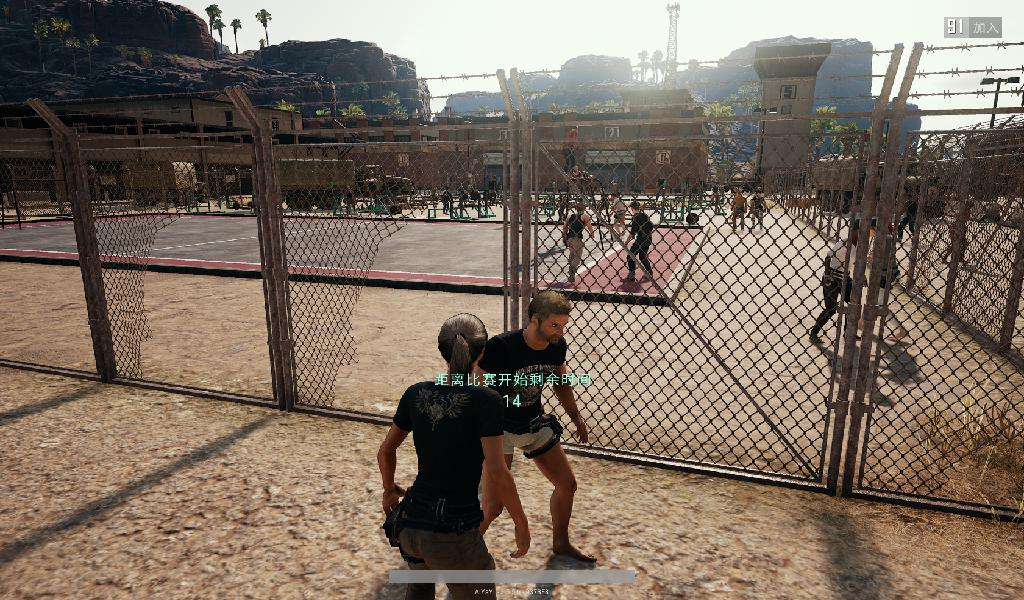Target Person: (379, 311, 530, 600), (479, 290, 598, 565), (854, 218, 908, 344), (814, 218, 863, 348), (559, 202, 594, 287), (617, 201, 654, 281), (559, 124, 580, 181), (748, 189, 770, 236), (729, 189, 746, 232)
